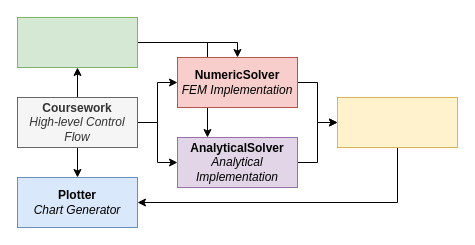
This 475x245 diagram has some shape labels left out. Each missing label, with the centre of its shape:
Mesh Mesh Generation & Properties: (77,42)
Solution Time Series Data: (397,122)
